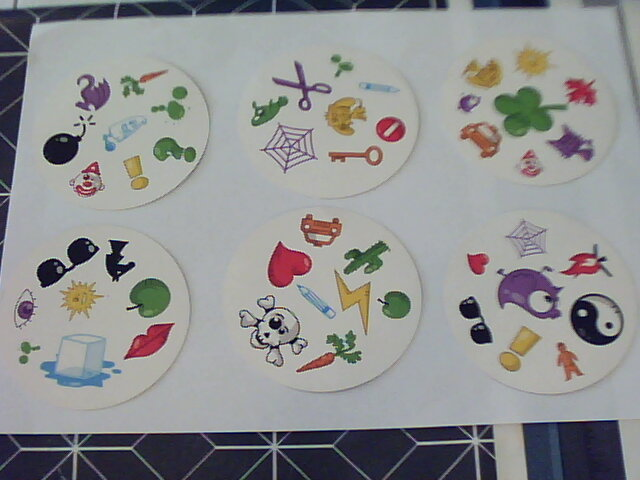bombe: (40, 112, 99, 167)
bonhomme: (549, 339, 589, 386)
bouche: (120, 320, 177, 364)
cactus: (335, 235, 389, 284)
carotte: (294, 328, 364, 375), (119, 65, 171, 98)
chat: (546, 122, 597, 166)
cheval: (100, 235, 138, 287)
chien: (321, 94, 371, 137), (461, 54, 507, 93)
ciseau: (270, 58, 331, 114)
cle: (326, 144, 388, 175)
clown: (67, 157, 107, 203), (513, 144, 546, 180)
coeur: (266, 238, 313, 290), (464, 245, 491, 280)
crayon: (292, 280, 341, 325), (354, 75, 403, 99)
dragon: (71, 69, 112, 116)
eclair: (331, 268, 374, 338)
feu: (558, 240, 614, 285)
feuille: (558, 72, 600, 111)
glacon: (40, 328, 124, 393)
lunette: (33, 232, 101, 292), (458, 292, 495, 349)
oeuil: (12, 287, 40, 332)
oiseau: (490, 260, 566, 324)
point_exclamation: (498, 322, 543, 373), (122, 153, 153, 193)
point_interrogation: (143, 131, 207, 166)
pomme: (117, 274, 174, 319), (374, 285, 413, 323)
sens_interdit: (373, 115, 411, 145)
soleil: (509, 38, 561, 82), (58, 277, 105, 320)
tache: (149, 84, 191, 122), (325, 50, 357, 83), (14, 339, 42, 368)
tete_mort: (229, 291, 308, 369)
toile: (260, 120, 319, 174), (505, 215, 553, 265)
tortue: (246, 93, 292, 129)
trefle: (493, 86, 570, 138)
voiture: (459, 115, 506, 160), (298, 207, 343, 250)
ying_yang: (567, 290, 631, 349)
